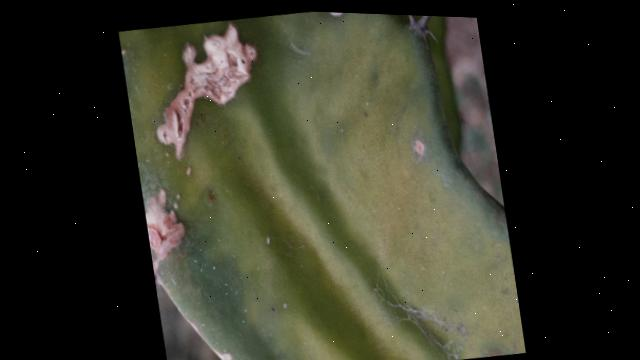stemcanker: (156, 19, 262, 163), (144, 186, 188, 269), (410, 134, 429, 167)
